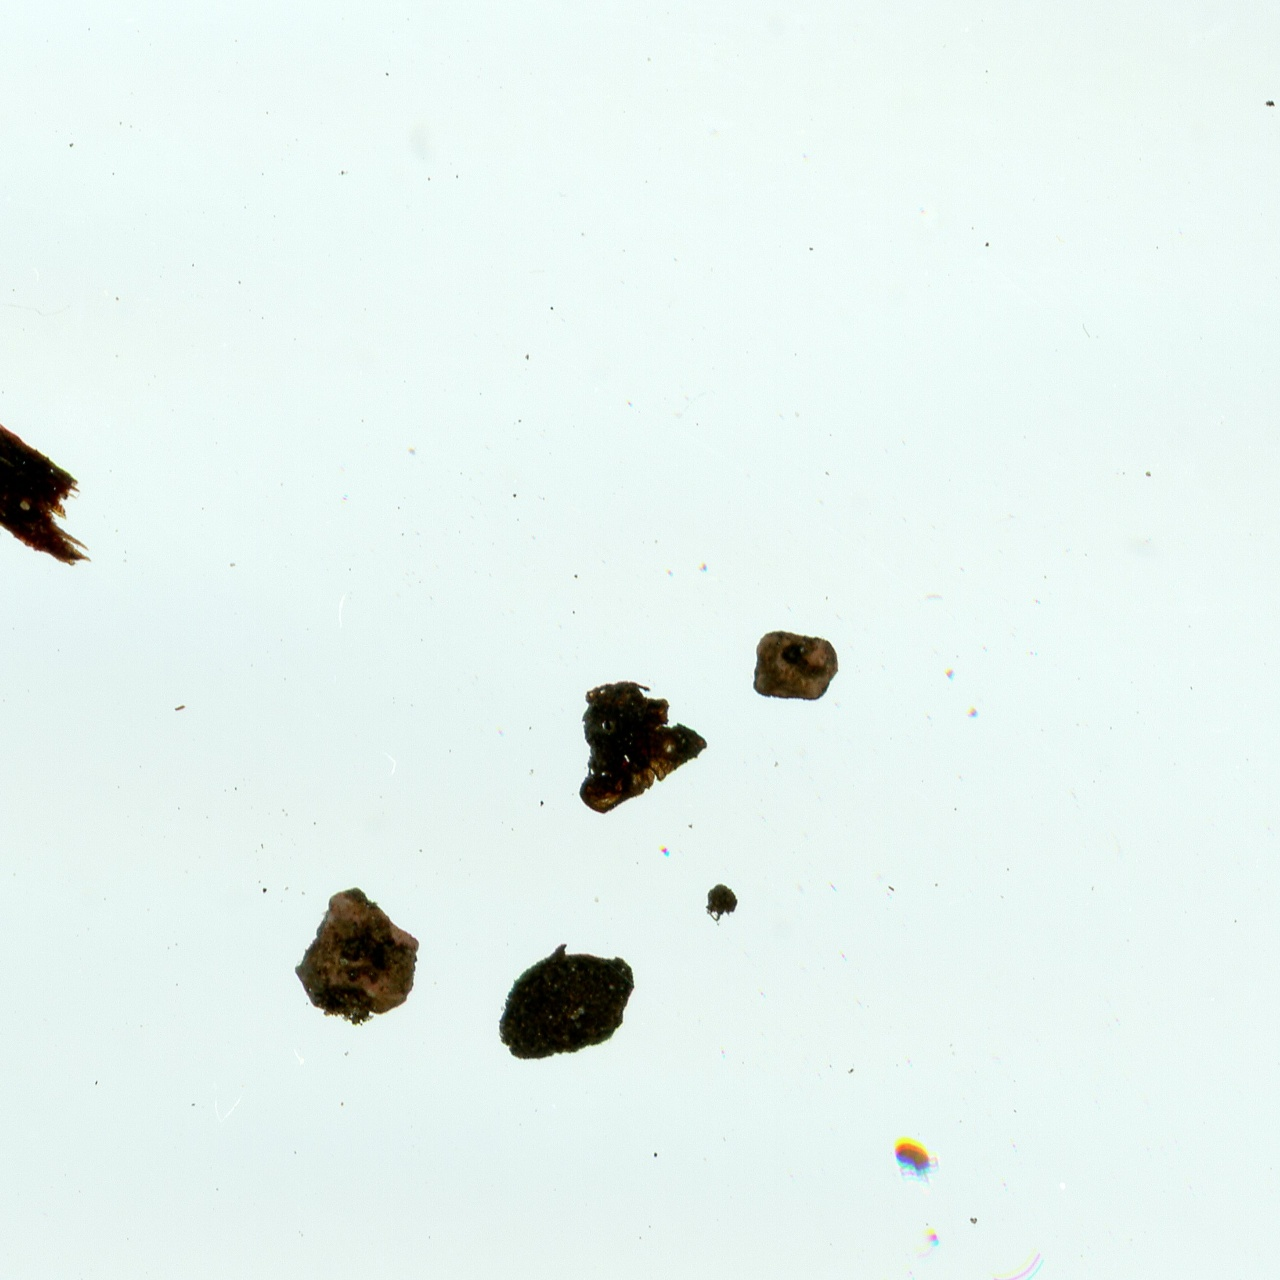arthropod: (883, 1135, 945, 1187)
